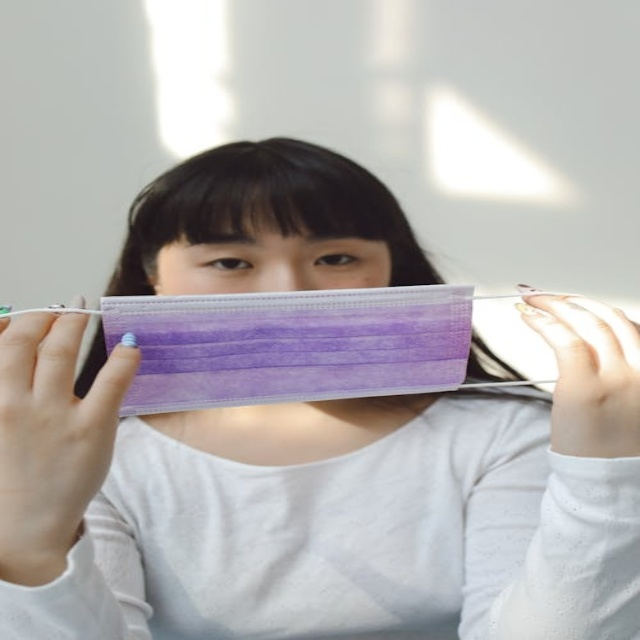Sin_gafas: (201, 257, 255, 271), (312, 252, 361, 267)
Sin_guantes: (0, 297, 145, 548), (509, 275, 636, 460)
